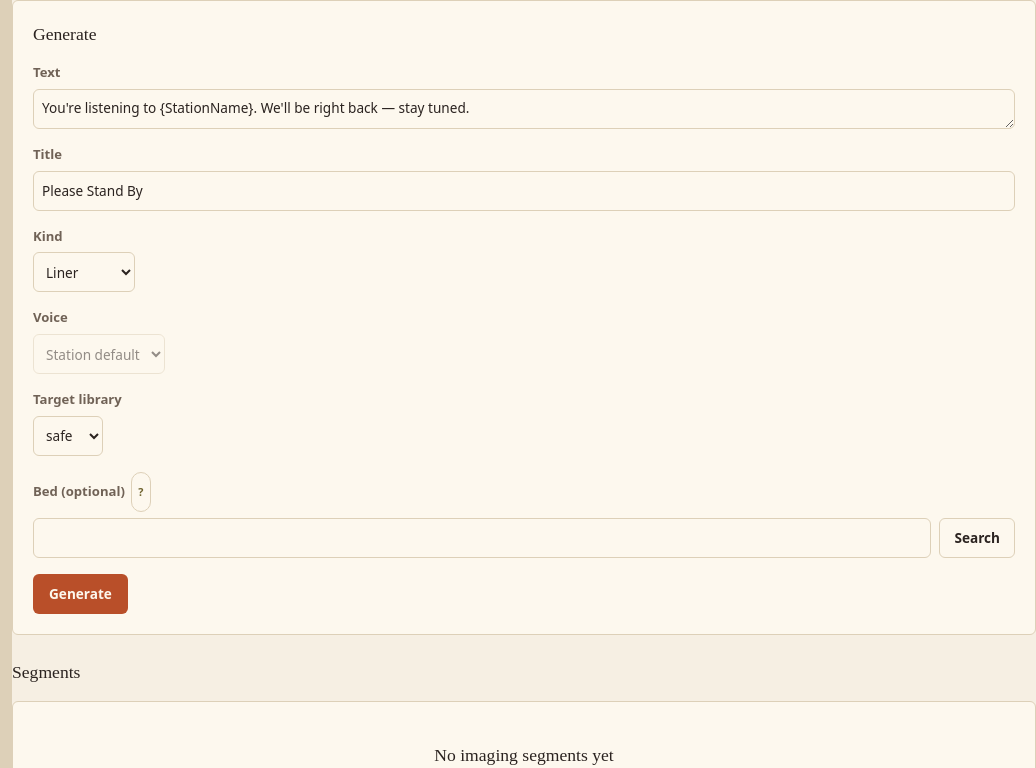
Test: Feature: Imaging show scope › Scenario: authoring with a scope › the scope picker defaults to station-wide
Select "Station ID" in the dropdown labelled "Kind" at [84, 272], box top-left (33, 252), bottom-right (135, 292)
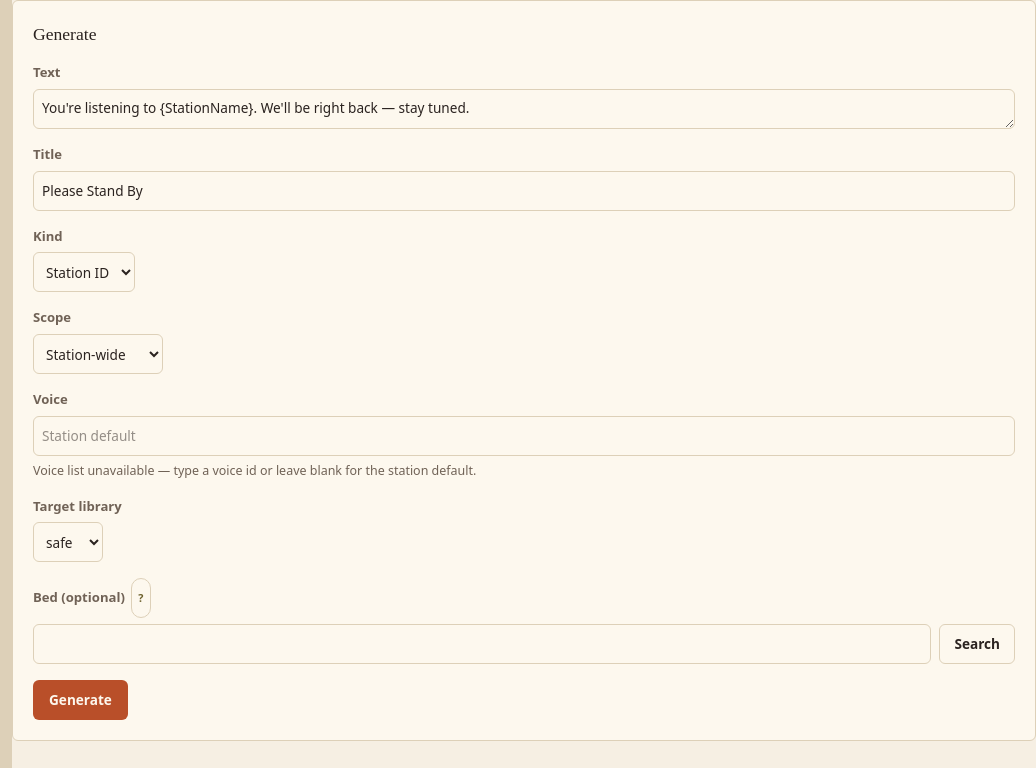
Now the dropdown labelled "Scope" shows "Station-wide", box top-left (33, 334), bottom-right (163, 374)
